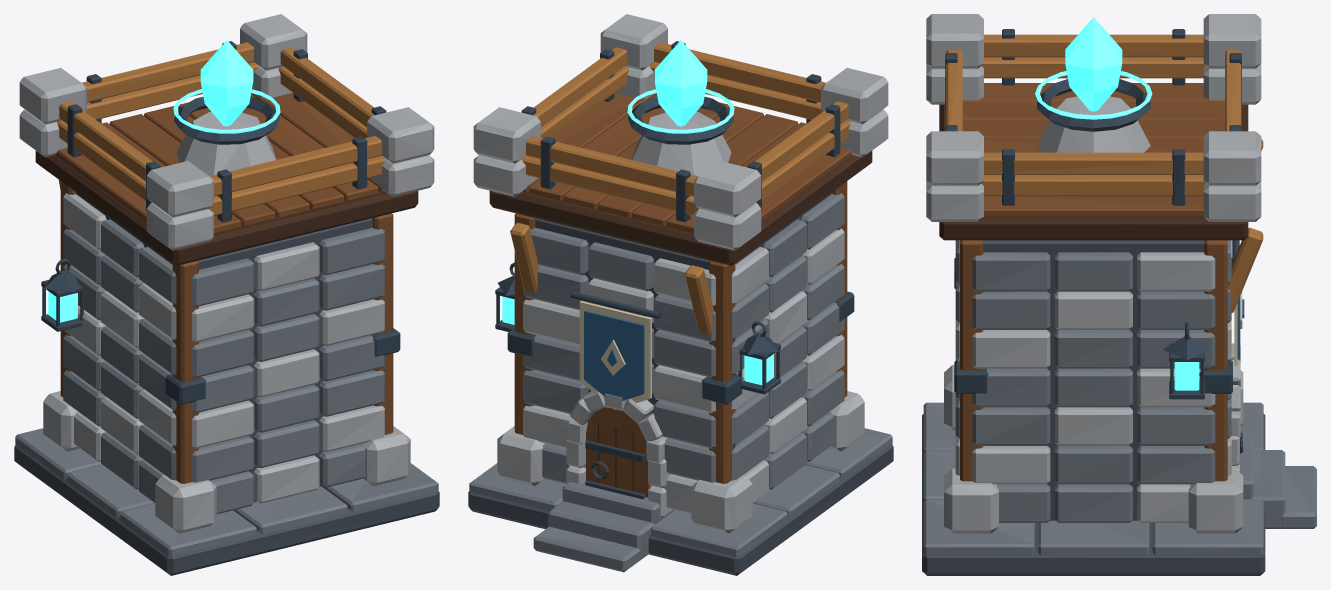
The model's file is tower_mage.glb.
3 renders of one model, left to right at view 1: azimuth 30°, elevation 25°; view 2: azimuth 150°, elevation 25°; view 3: azimuth 270°, elevation 25°, orthographic. The views are drawn at different scales.
Visible parts, largest first — view 1: body, focus_crystal, charge_ring; view 2: body, focus_crystal, charge_ring; view 3: body, focus_crystal, charge_ring.
Boxes of the visible parts, x1,y1,x2,y2 form: body: (14,14,439,575); focus_crystal: (200,40,253,126); charge_ring: (173,89,280,133); body: (468,14,893,575); focus_crystal: (654,40,707,126); charge_ring: (627,89,734,133); body: (922,14,1316,575); focus_crystal: (1065,17,1122,111); charge_ring: (1035,71,1152,119).
Size of the model in its own units: 2.58 by 3.93 by 2.88.
